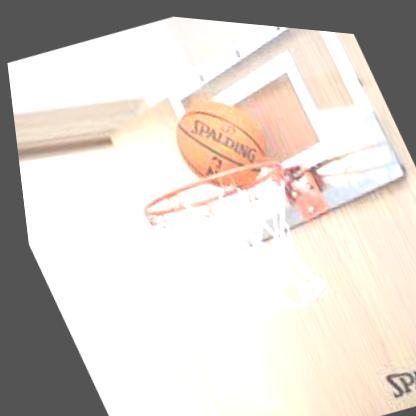basketball: (160, 85, 272, 195)
rim: (123, 139, 340, 341)
